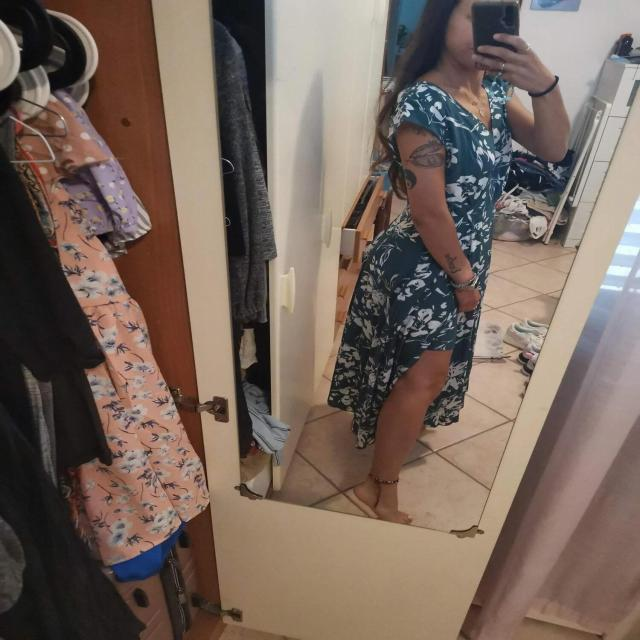clothes: (314, 65, 541, 448)
